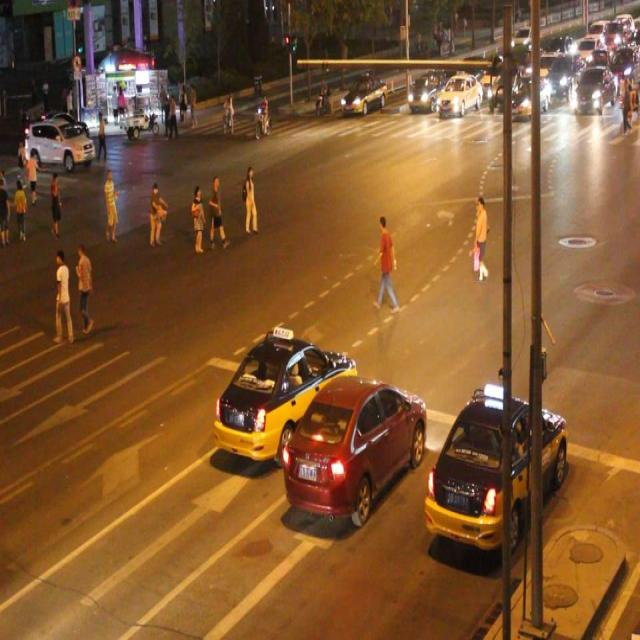car: (423, 393, 568, 556), (283, 373, 425, 524), (215, 332, 357, 463), (26, 115, 95, 169), (341, 71, 386, 115), (438, 71, 480, 116), (408, 68, 444, 110)
